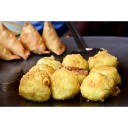bonda: (20, 67, 51, 102), (81, 72, 116, 101), (52, 70, 80, 97), (87, 51, 118, 68), (61, 53, 88, 70)
